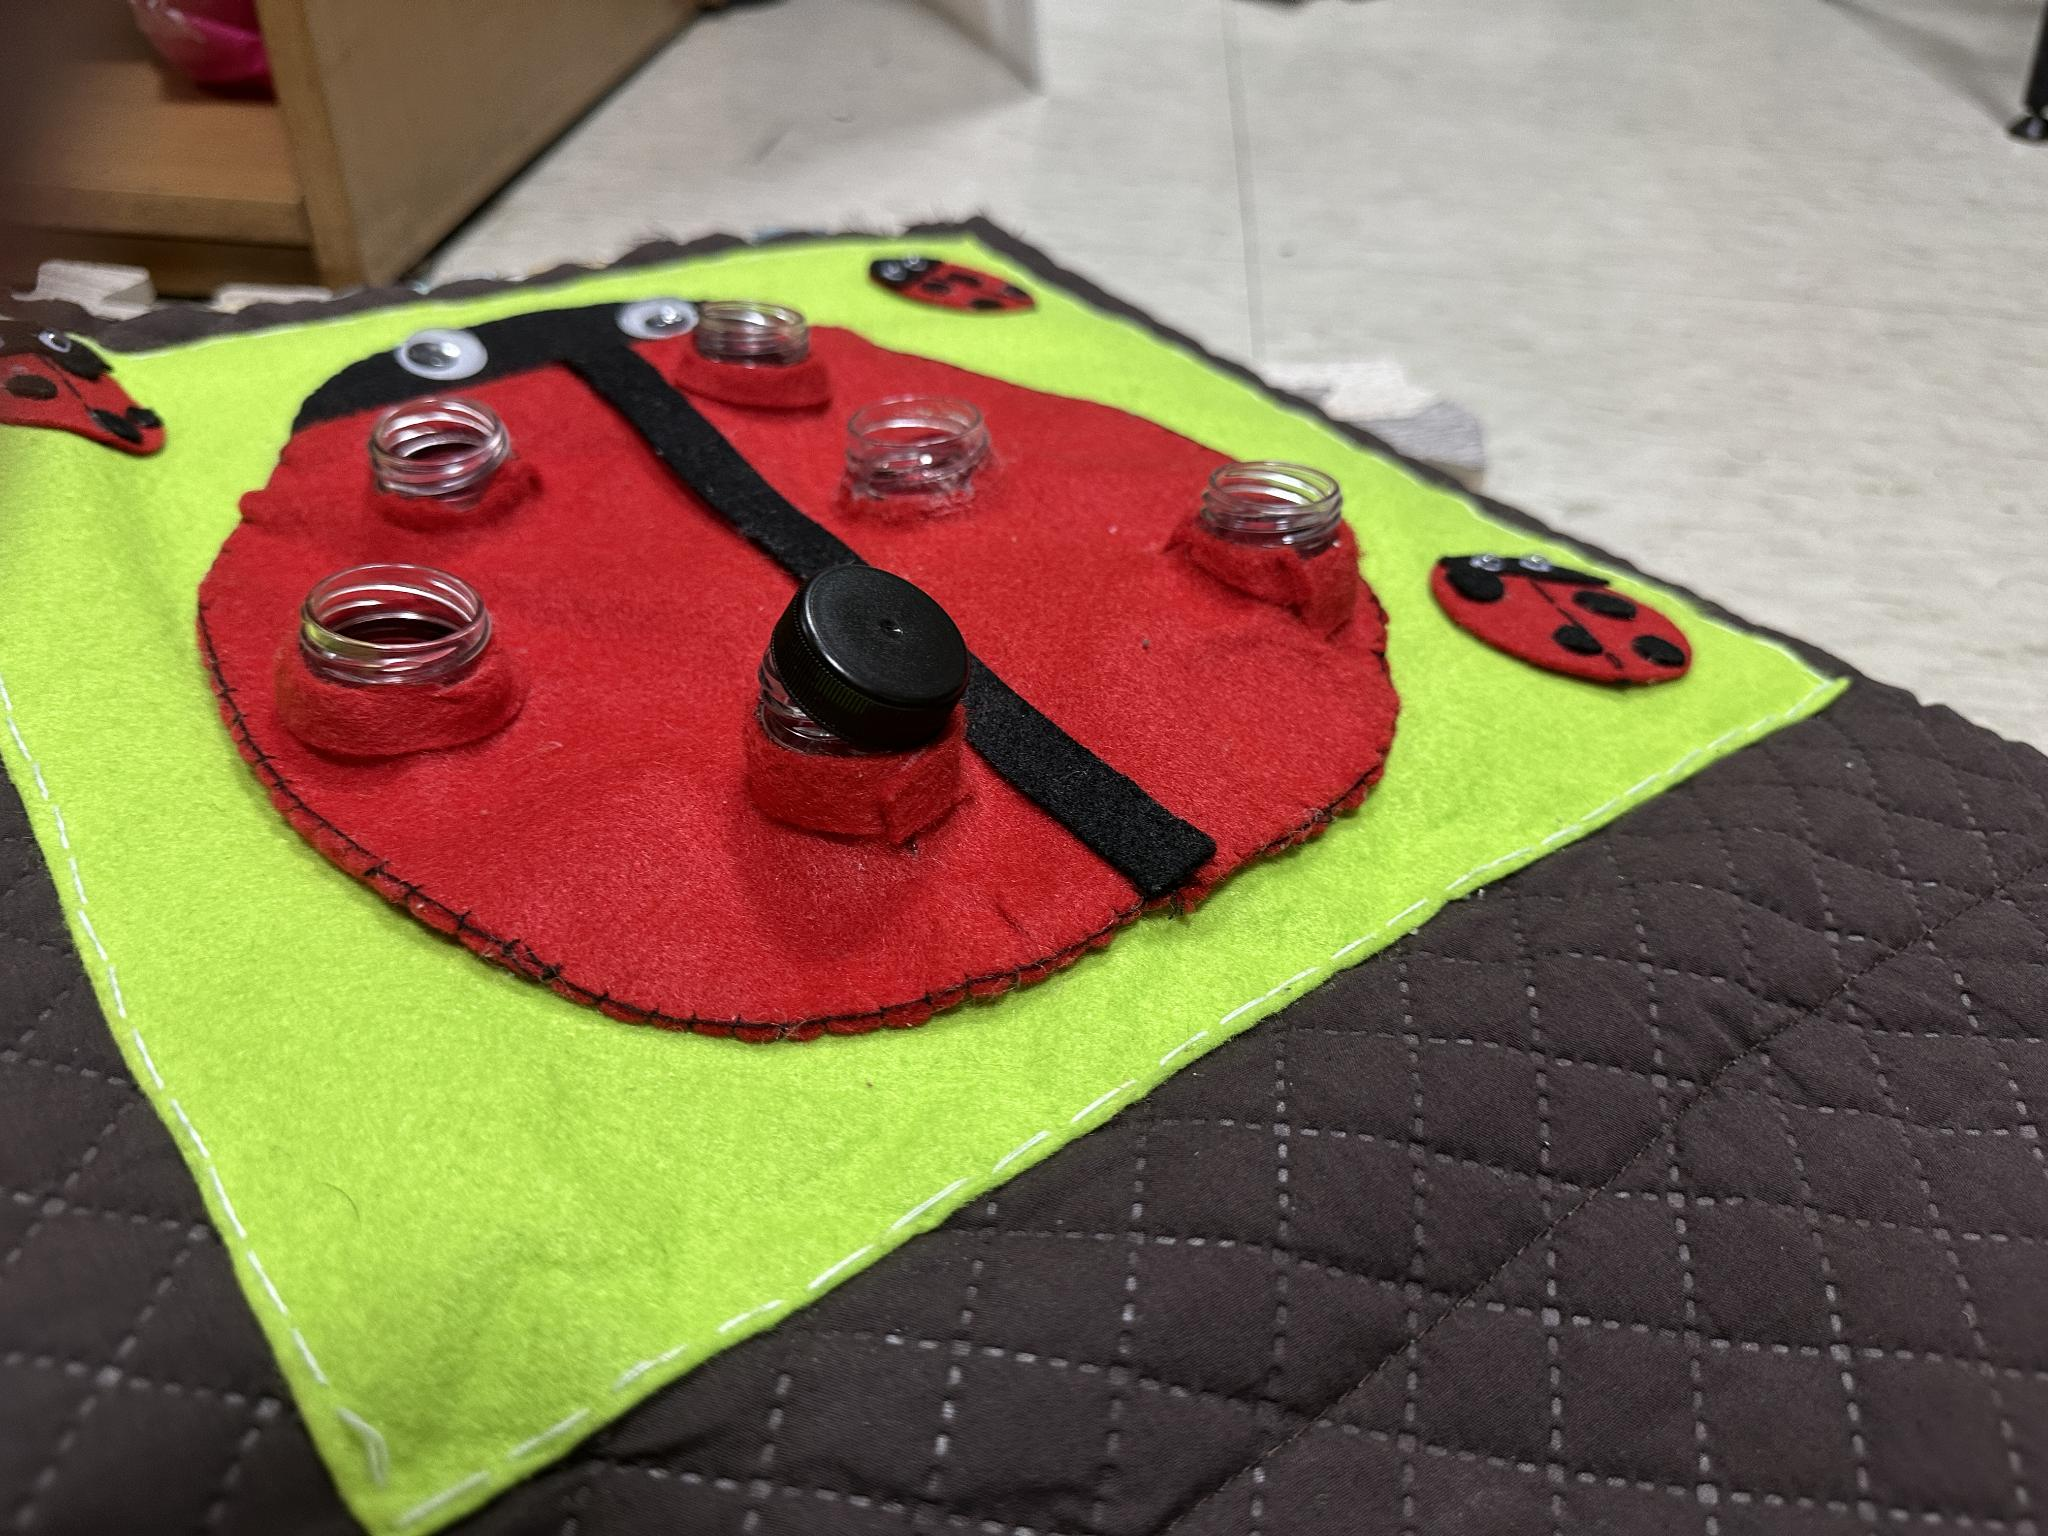cap_ng: (739, 555, 997, 862)
